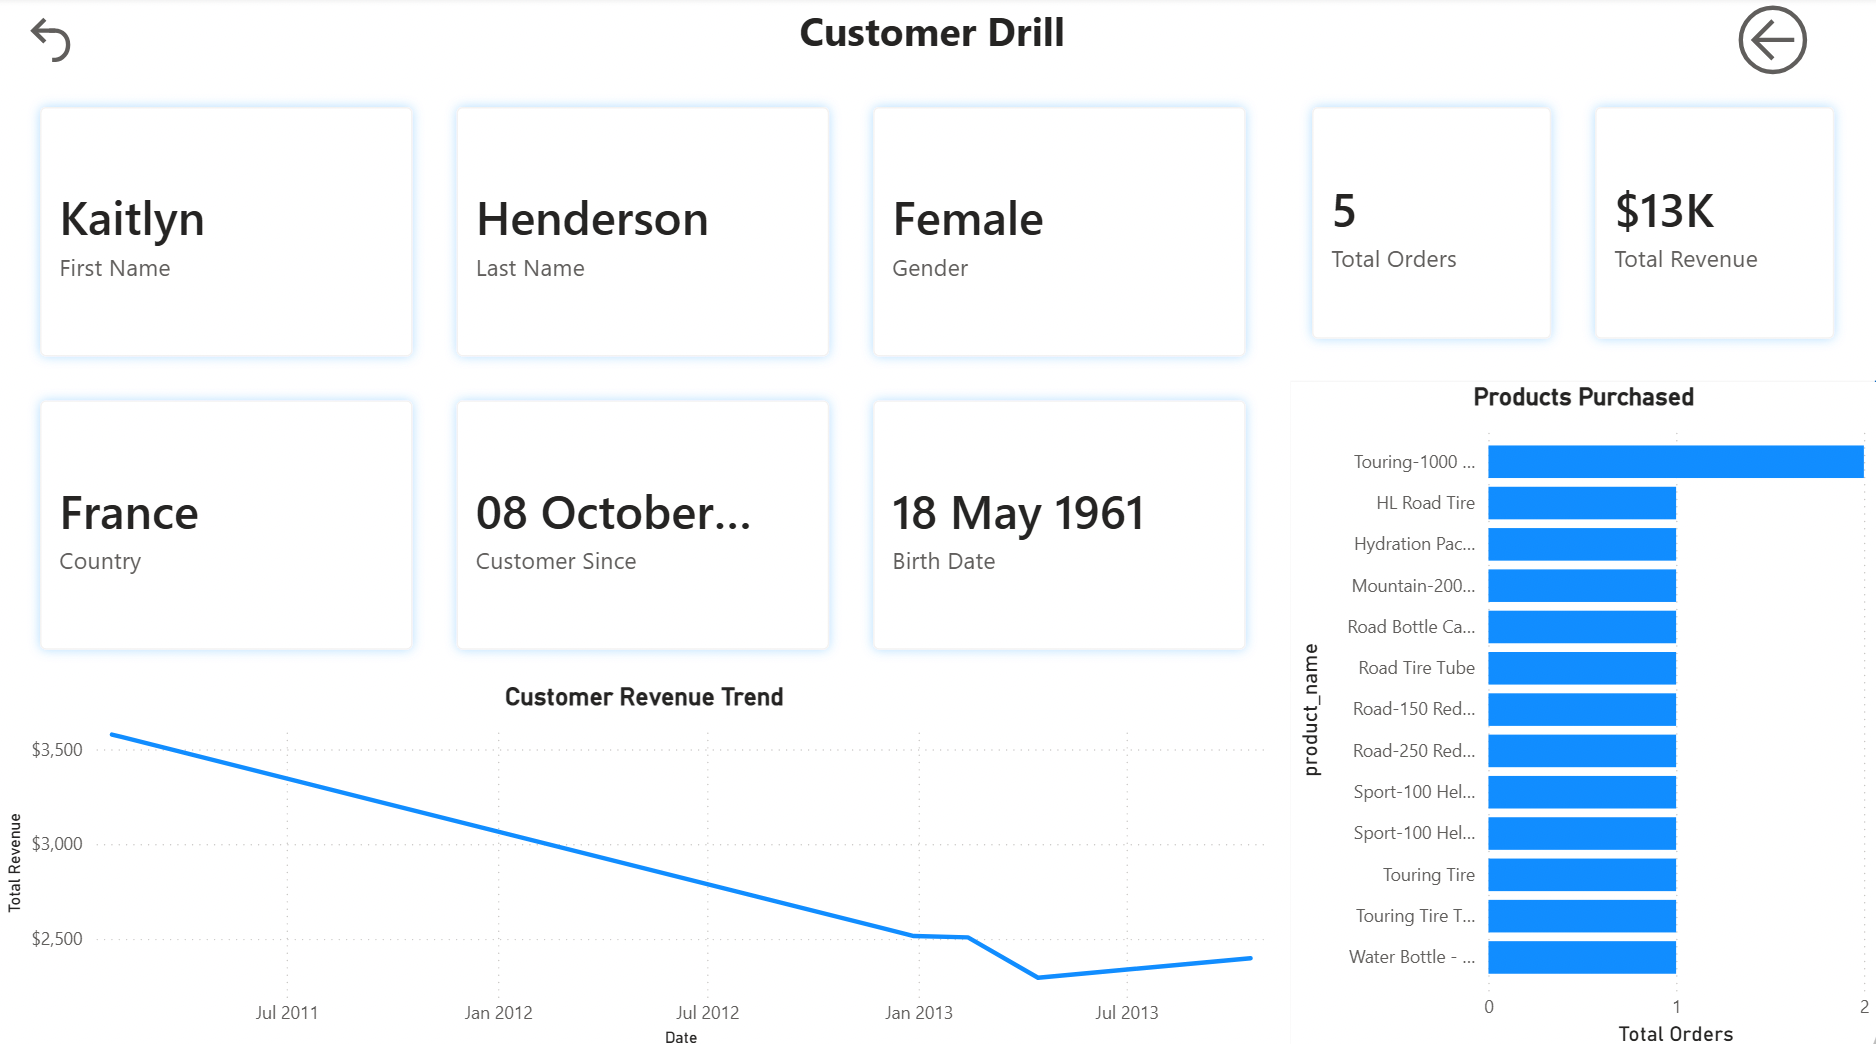

This screenshot's page, from the dashboard's own definition file:
{"tool":"powerbi","page":{"name":"Customer Drill ","canvas":[1280,720],"ordinal":5},"visuals":[{"type":"shape","title":"Background ","box":[0,0,1280,720.9],"z":0},{"type":"actionButton","title":"Home Page","box":[15.4,9.7,50.2,40.5],"z":0,"group":"g1"},{"type":"cardVisual","fields":{"Data":["Min(gold dim_customers.first_name)","Min(gold dim_customers.last_name)","Min(gold dim_customers.gender)","Min(gold dim_customers.country)","Min(gold dim_customers.create_date)","Min(gold dim_customers.birthdate)"]},"box":[0,48.3,880.4,426.7],"z":1000},{"type":"lineChart","title":"Customer Revenue Trend","fields":{"Y":["_measures.total_revenue"],"Category":["date_dim.Date"]},"box":[0,467.2,880.4,252.9],"z":2000},{"type":"barChart","title":"Products Purchased ","fields":{"Category":["gold dim_products.product_name"],"Y":["_measures.total_orders"]},"box":[880.4,262.6,399.6,457.6],"z":3000},{"type":"cardVisual","fields":{"Data":["_measures.Total Orders","_measures.Total Revenue"]},"box":[866.8,48.3,413.2,214.3],"z":4000},{"type":"textbox","box":[0,0,1280,50.2],"z":5000},{"type":"actionButton","box":[1179.6,0,65.6,59.8],"z":6000},{"type":"group","id":"g1","title":"Page Navigators","box":[15.4,9.7,50.2,40.5],"z":7000}]}

Visuals, with their boxes in screenshot pixels (x1, y1, x2, y2), scaled from the page's 1280x720 canvas onto the 1876x1044 screenshot:
"Background " shape: left=0, top=0, right=1875, bottom=1043
"Home Page" actionButton: left=23, top=14, right=96, bottom=73
cardVisual - Min(gold dim_customers.first_name) x Min(gold dim_customers.last_name): left=0, top=70, right=1290, bottom=689
"Customer Revenue Trend" lineChart: left=0, top=677, right=1290, bottom=1043
"Products Purchased " barChart: left=1290, top=381, right=1875, bottom=1043
cardVisual - _measures.Total Orders x _measures.Total Revenue: left=1270, top=70, right=1875, bottom=381
textbox: left=0, top=0, right=1875, bottom=73
actionButton: left=1729, top=0, right=1825, bottom=87
"Page Navigators" group: left=23, top=14, right=96, bottom=73
